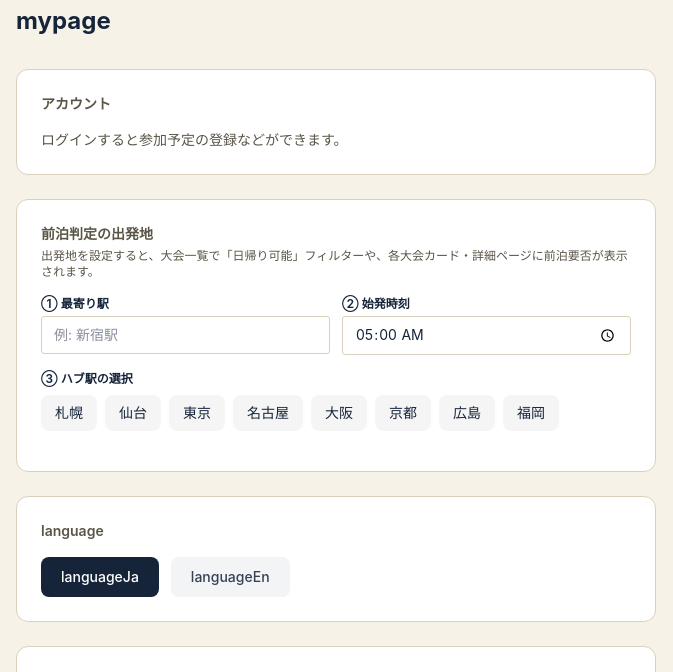
Scenario: MyPage - 前泊設定セクションの入力順序 › ハブをクリックすると選択され、「ハブ駅までの移動時間＋余裕時間」欄が表示される
This screenshot has width=673, height=672.
Click the button "東京" at (197, 413), box [169, 395, 225, 431]
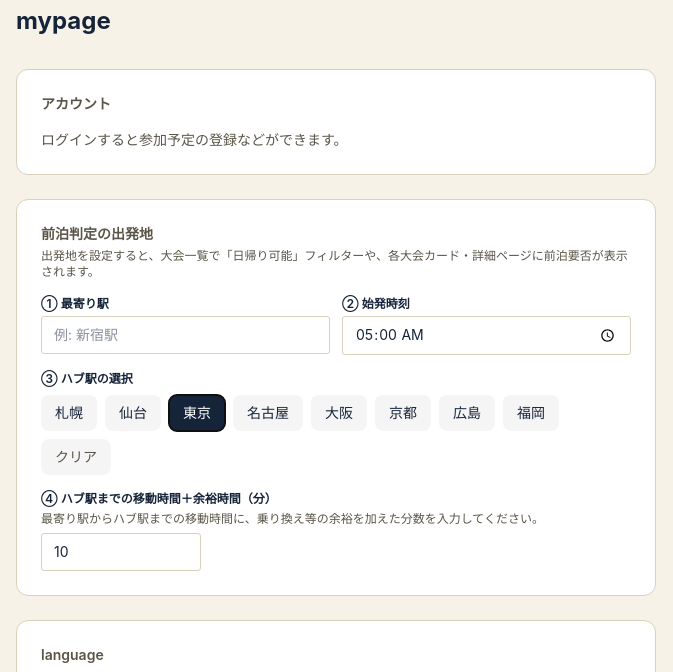
Now the number field labelled "④ ハブ駅までの移動時間＋余裕時間（分）" is shown, box [41, 533, 201, 571]
